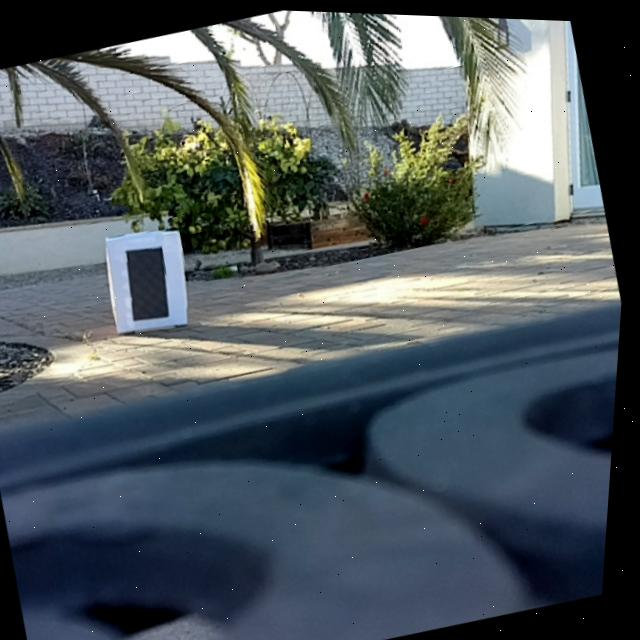led: (122, 241, 180, 323)
